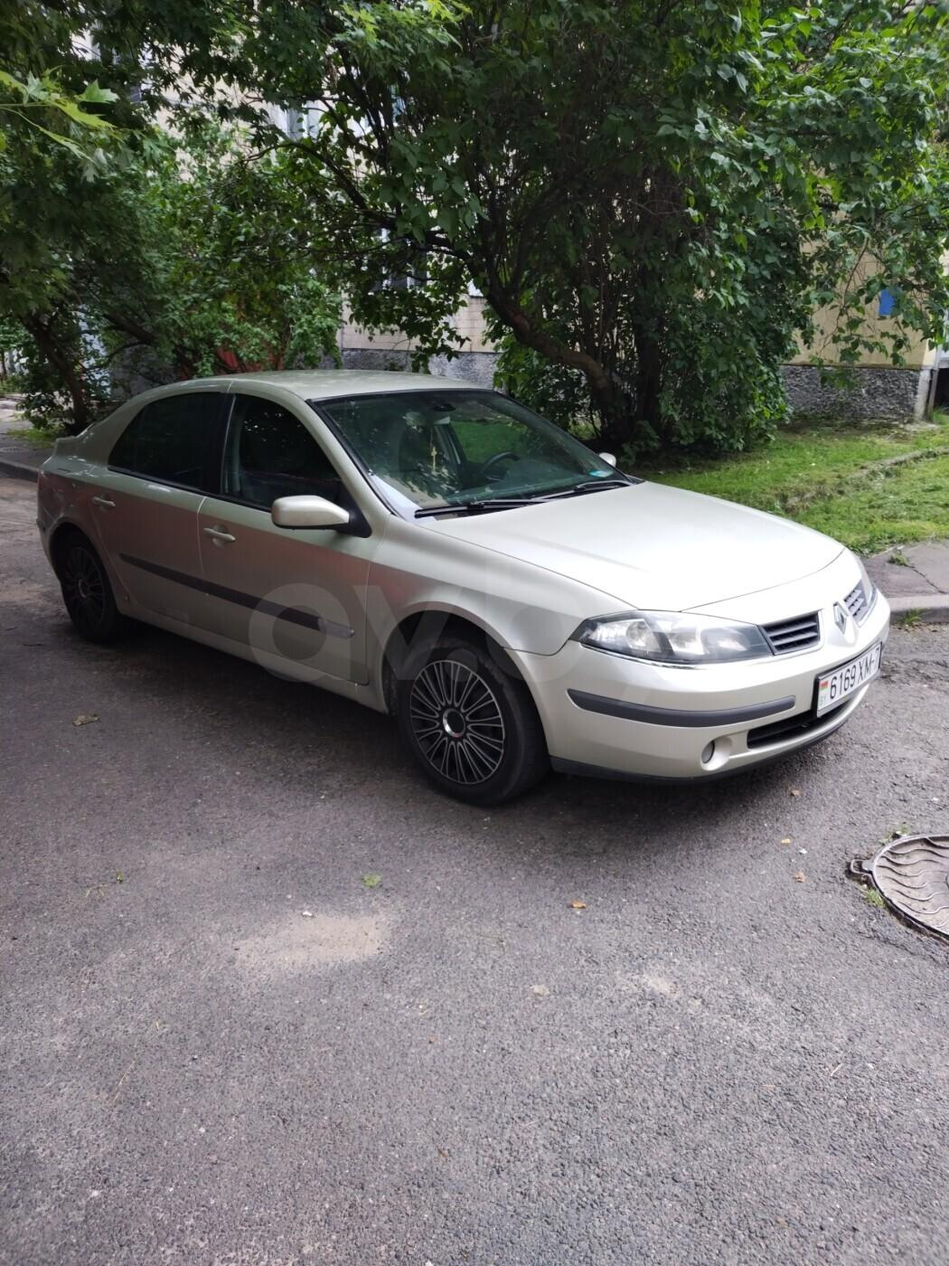Laguna_2005-2007: (40, 356, 888, 817)
